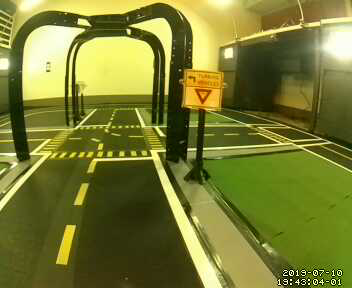Turn Yield: (180, 67, 223, 116)
